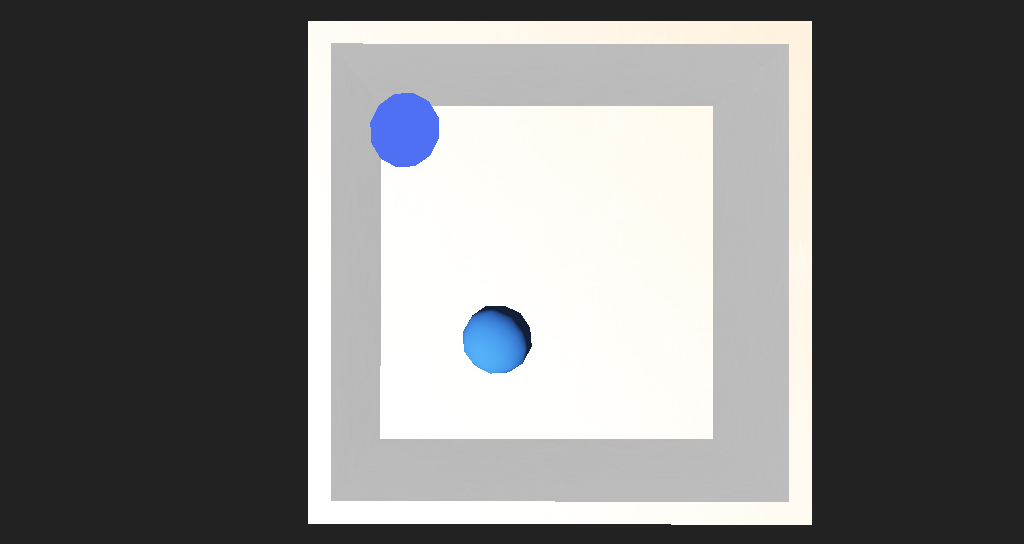cone: (502, 246, 549, 289)
cylinder: (391, 270, 458, 332)
sphere: (367, 160, 428, 203)
